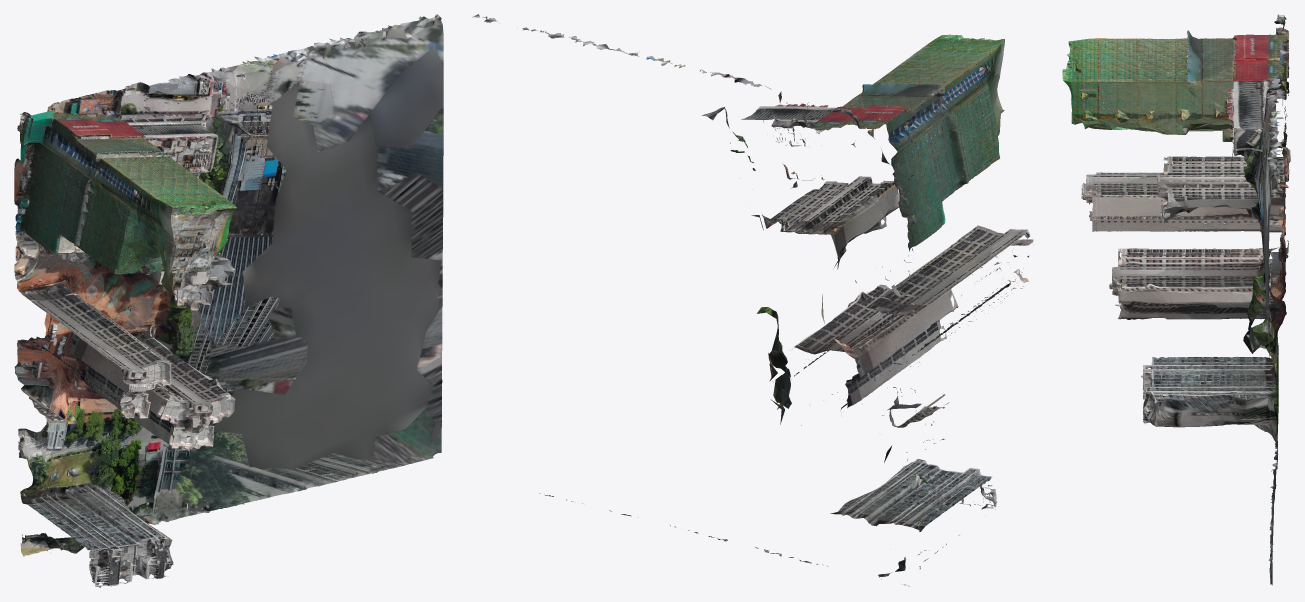
Rendered from Tile_+003_+002.glb.
The picture shows the model from 3 angles, left to right: view 1: azimuth 30°, elevation 25°; view 2: azimuth 150°, elevation 25°; view 3: azimuth 270°, elevation 25°; orthographic projection. The views are drawn at different scales.
Visible parts, largest first — view 1: Node; view 2: Node; view 3: Node.
Part boxes in pixels (<box>): Node: <box>14,14,443,587</box>; Node: <box>472,14,1033,586</box>; Node: <box>1062,14,1290,585</box>.
Bounding box in the file's own units: 200 × 200 × 106.
3 materials, 3 textured.
